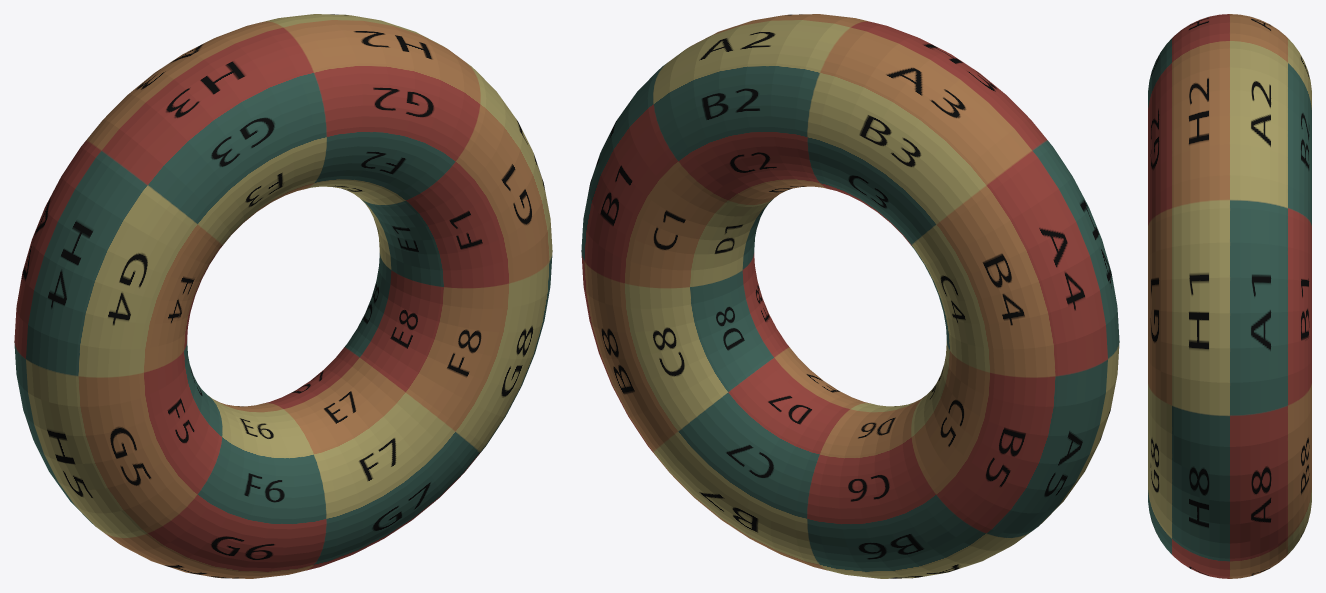
File: texture_torus_R6_r14.glb
3 renders of one model, left to right at view 1: azimuth 30°, elevation 25°; view 2: azimuth 150°, elevation 25°; view 3: azimuth 270°, elevation 25°, orthographic. The views are drawn at different scales.
Parts seen in each view (by area): view 1: world; view 2: world; view 3: world.
Boxes of the visible parts, x1,y1,x2,y2 form: world: [14, 14, 552, 578]; world: [581, 14, 1119, 578]; world: [1148, 14, 1311, 578].
Size of the model in its own units: 19.73 by 19.69 by 5.72.
Materials: 1 (1 with a texture image).
